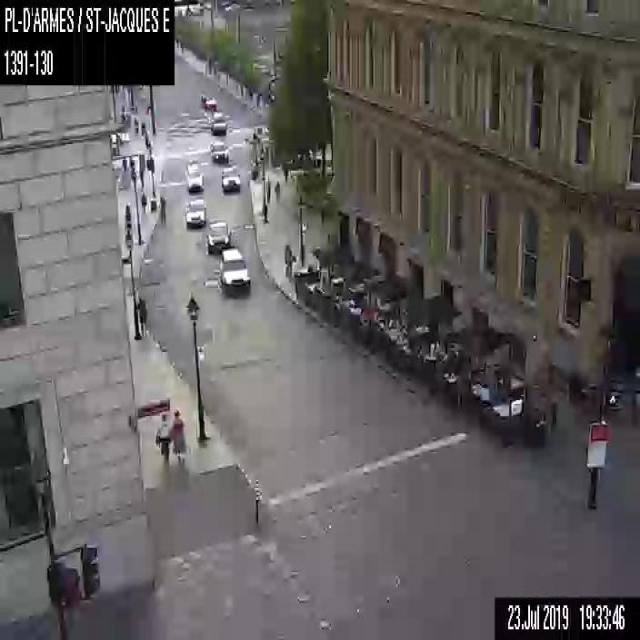pedestrian: (169, 409, 184, 462), (154, 411, 169, 462), (283, 243, 296, 279), (136, 296, 146, 335), (158, 192, 166, 223), (124, 203, 131, 228), (265, 176, 270, 203), (274, 180, 280, 201), (140, 190, 145, 214), (120, 104, 125, 123), (133, 115, 138, 134), (150, 192, 155, 211), (122, 156, 127, 171), (140, 120, 144, 138)
vehicle: (218, 248, 250, 293), (206, 220, 231, 252), (183, 198, 206, 228), (185, 159, 202, 193), (220, 165, 240, 192), (209, 139, 228, 162), (210, 110, 226, 135), (200, 92, 217, 109)
